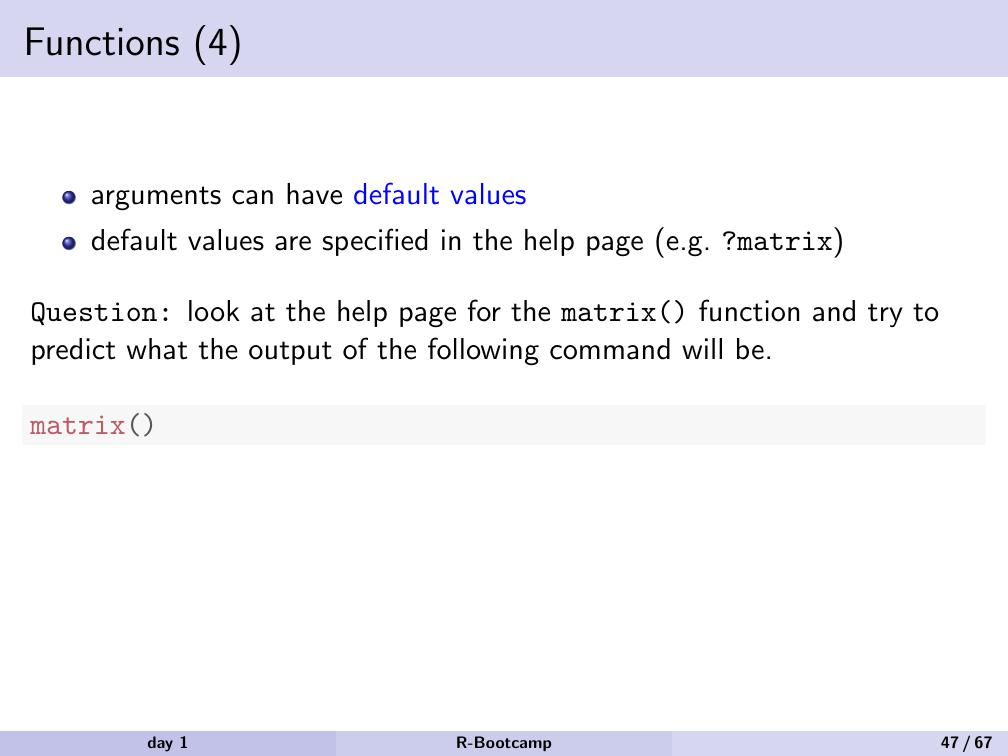Title: (11, 18, 251, 73)
